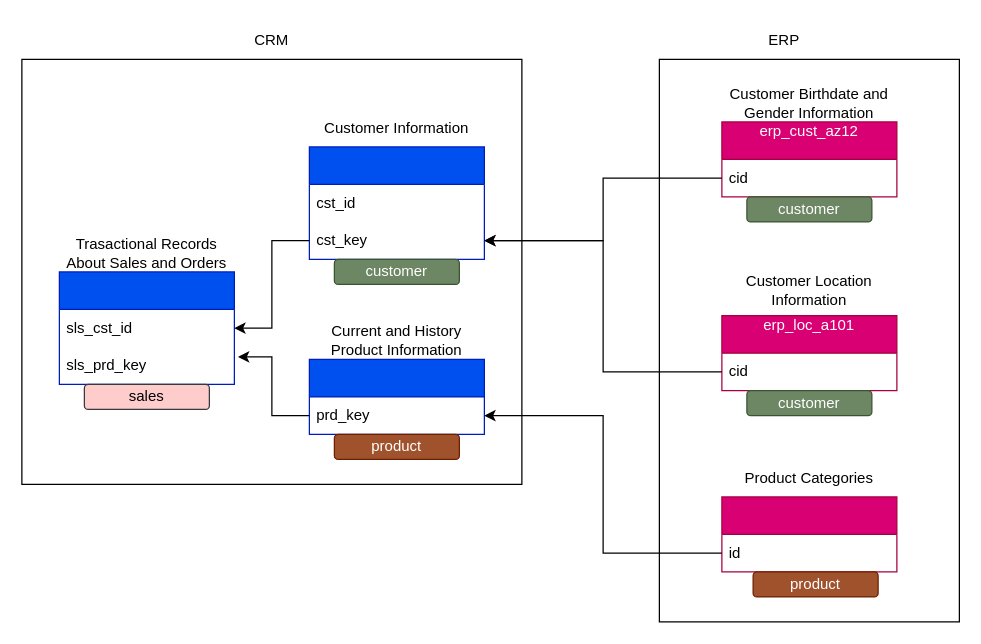
The diagram is 981 pixels wide and 644 high, and some of its shapes have lost their labels. The shapes that lost their labels are listed below. From the top down, each one's box as (x1, y1, x2, y2) in pixels, then its label:
(308, 146, 484, 259): crm_cust_info
(58, 271, 234, 384): crm_sales_details
(308, 358, 484, 434): crm_prd_info
(721, 496, 897, 572): erp_px_cat_g1v2
